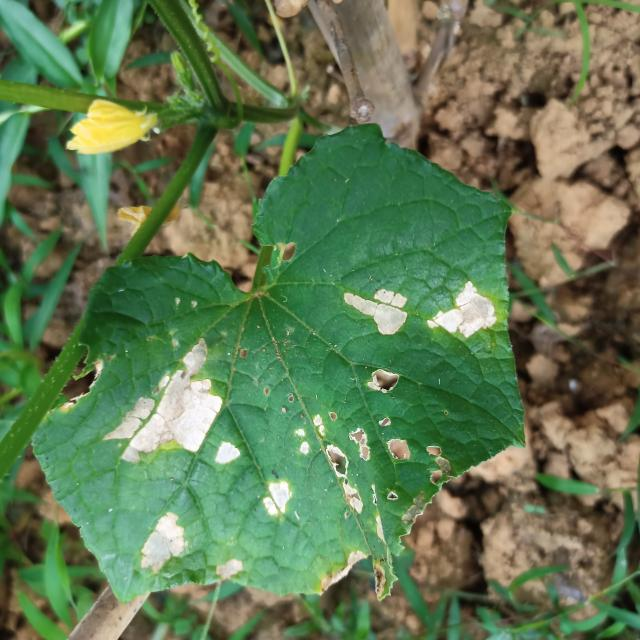disease_cucumber: (114, 330, 300, 580), (305, 366, 451, 527), (333, 272, 498, 354)
